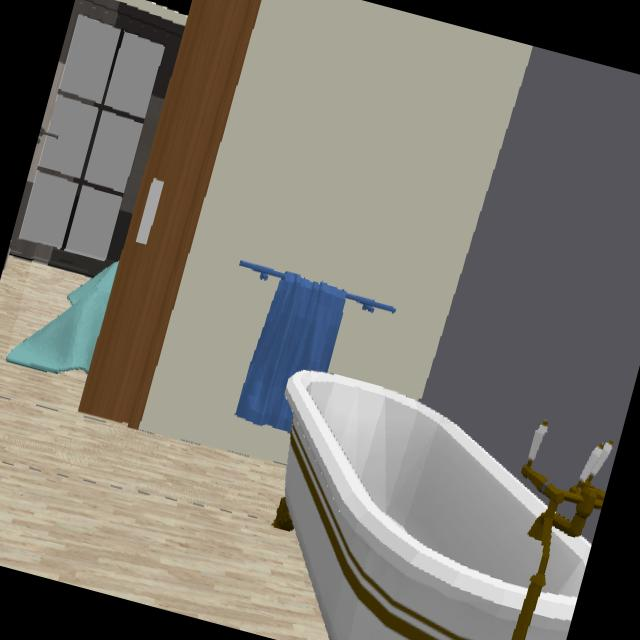bathtube: (286, 370, 546, 640), (526, 530, 591, 640)
bed: (6, 264, 116, 373)
